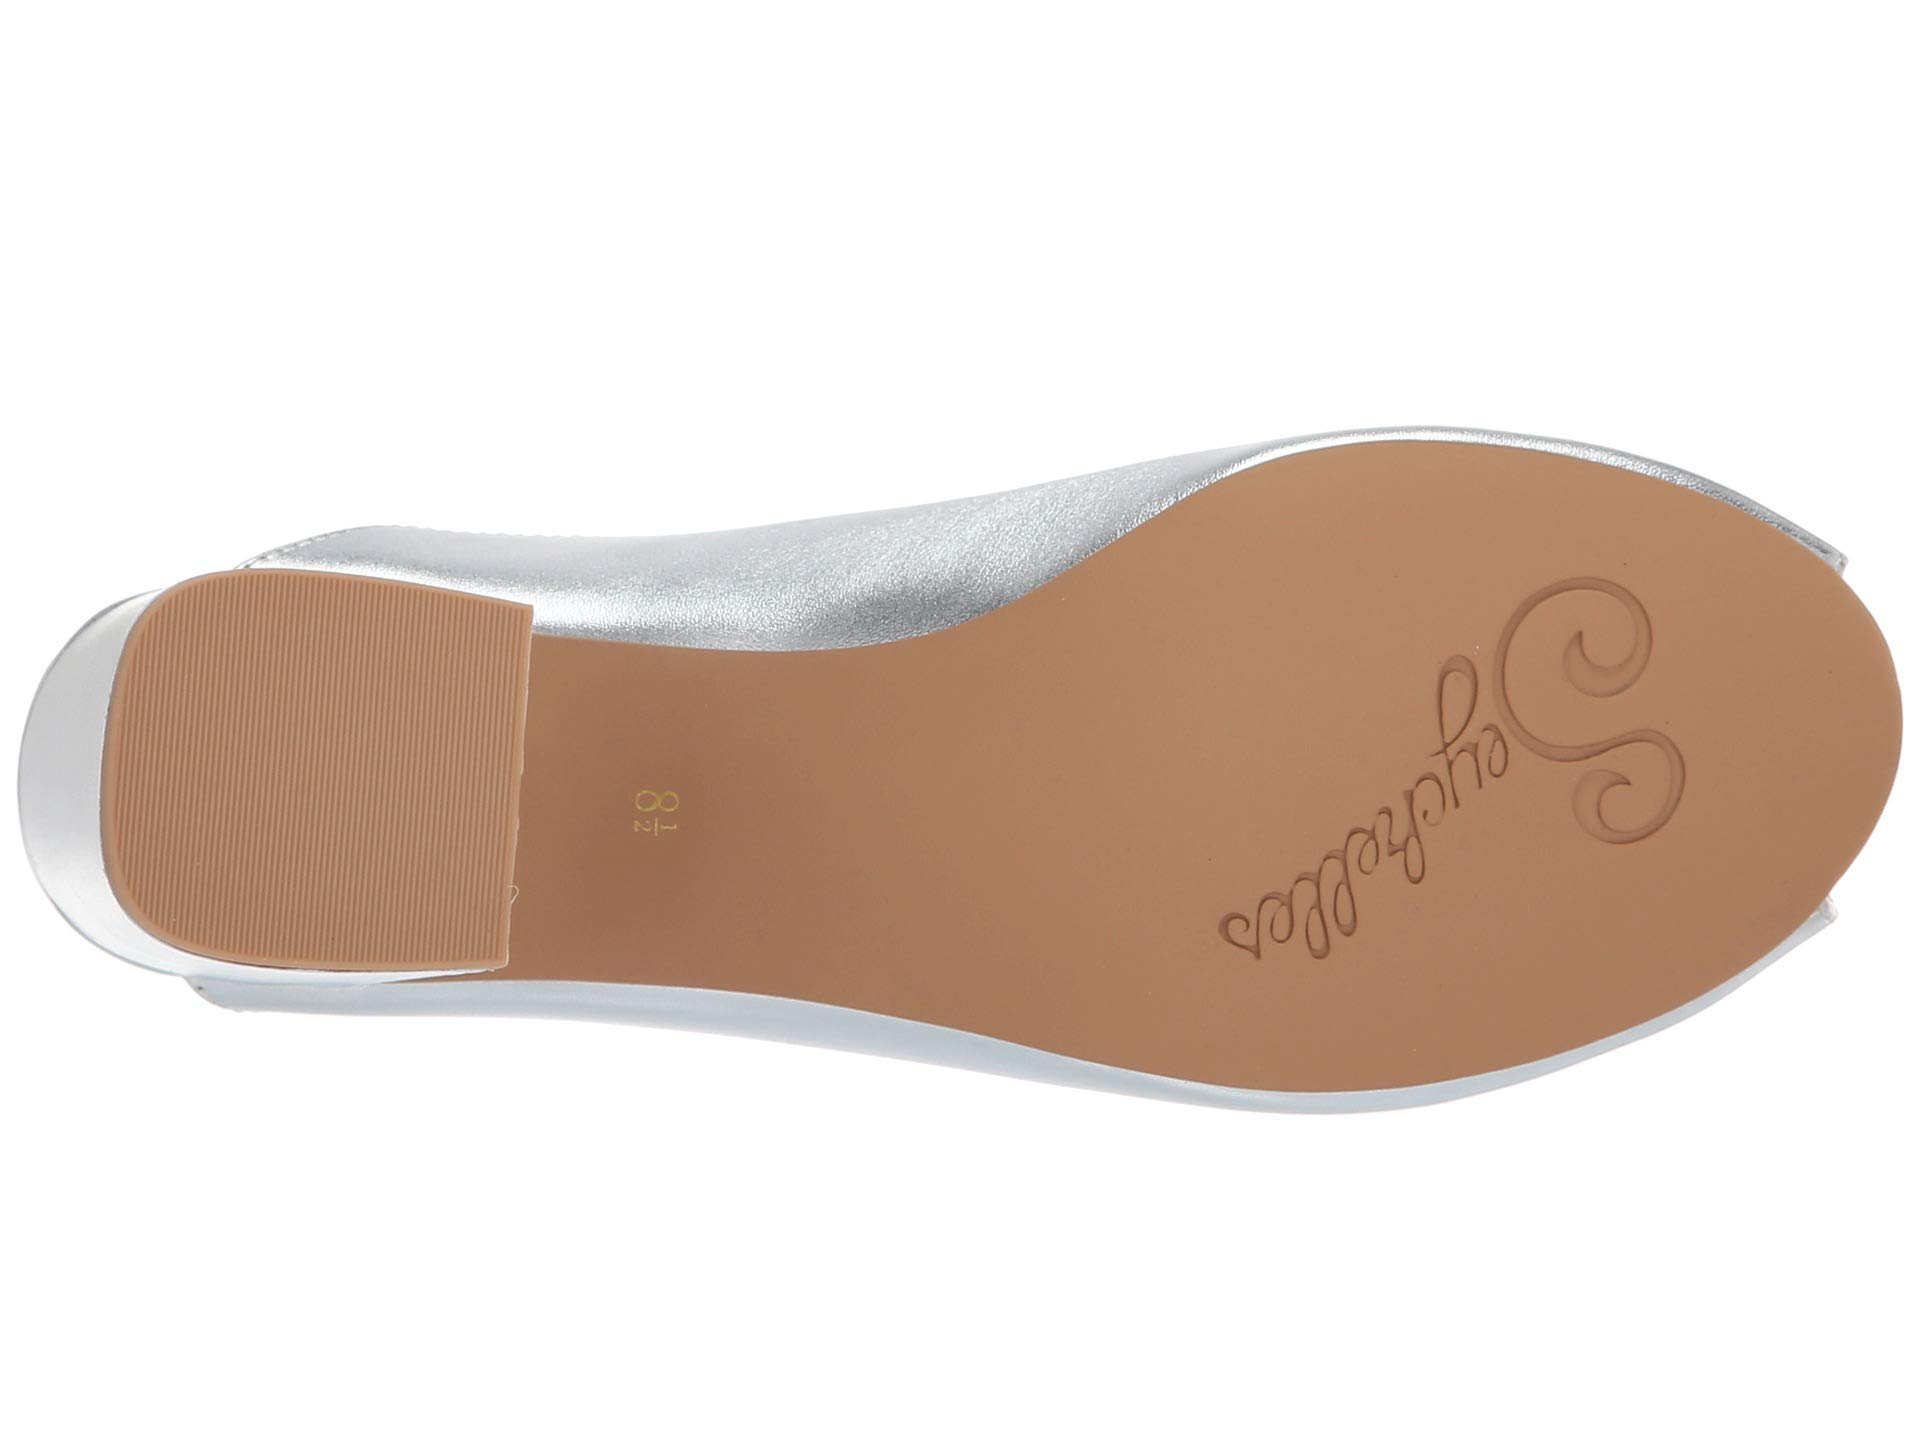line: (165, 635, 443, 865)
text: (1336, 569, 1722, 965)
